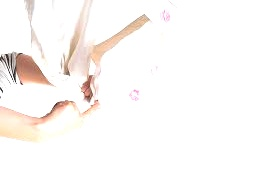lipstick: (127, 86, 143, 104), (158, 6, 171, 25), (147, 63, 161, 77)
